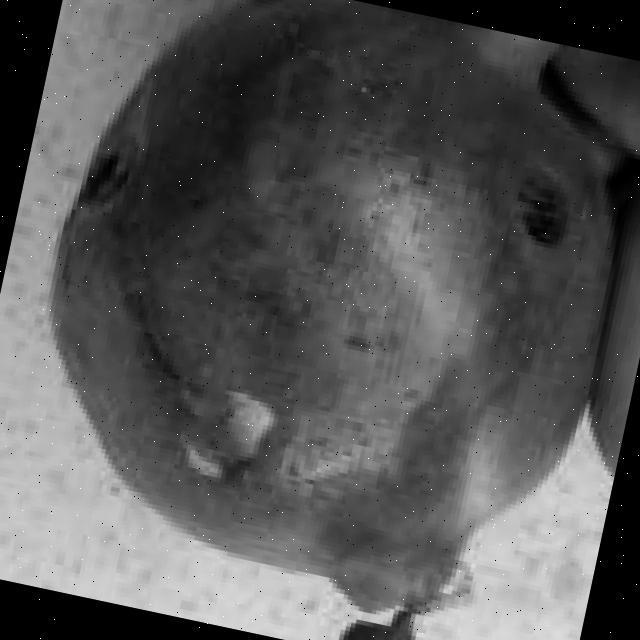Bad_Pomegranate-0-1-day: (41, 0, 606, 640)
